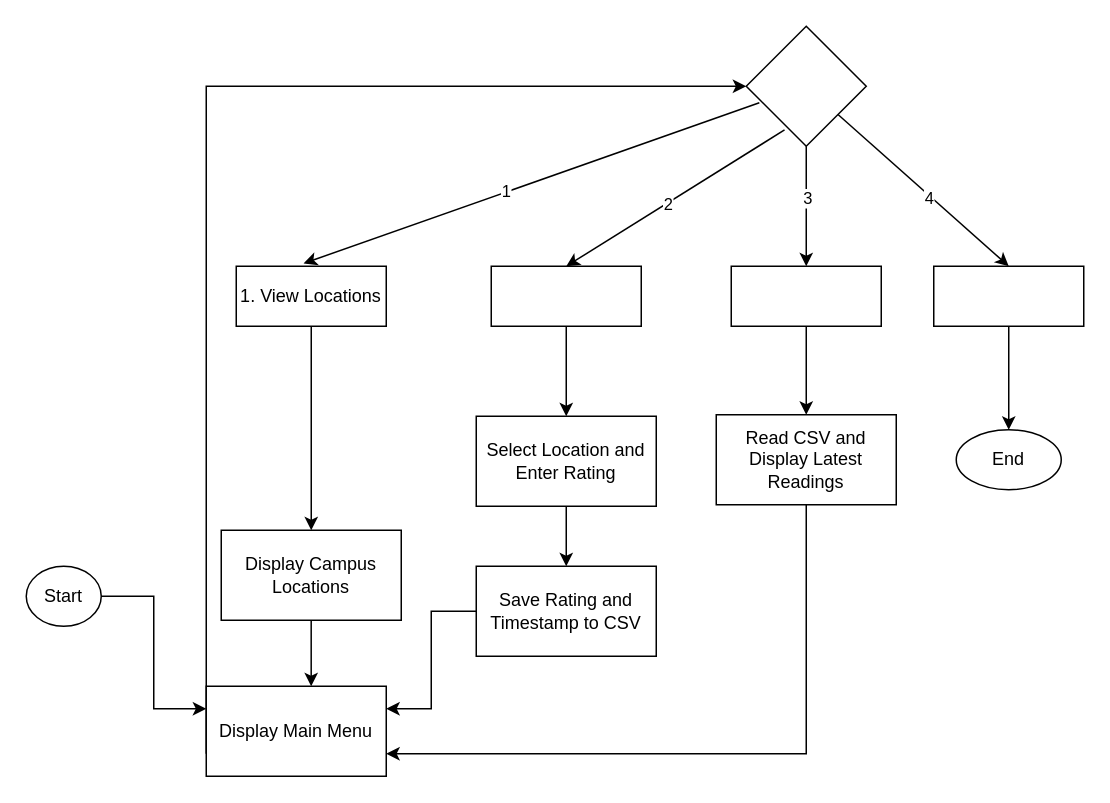
This 1110x803 diagram has some shape labels left out. Here are the shapes that lost their labels. From the top down, the box of each, then its label:
(745, 25, 866, 146): User Choice?
(490, 265, 641, 326): 2. Submit Rating
(730, 265, 881, 326): 3. View Ratings
(932, 265, 1084, 326): 4. Exit
